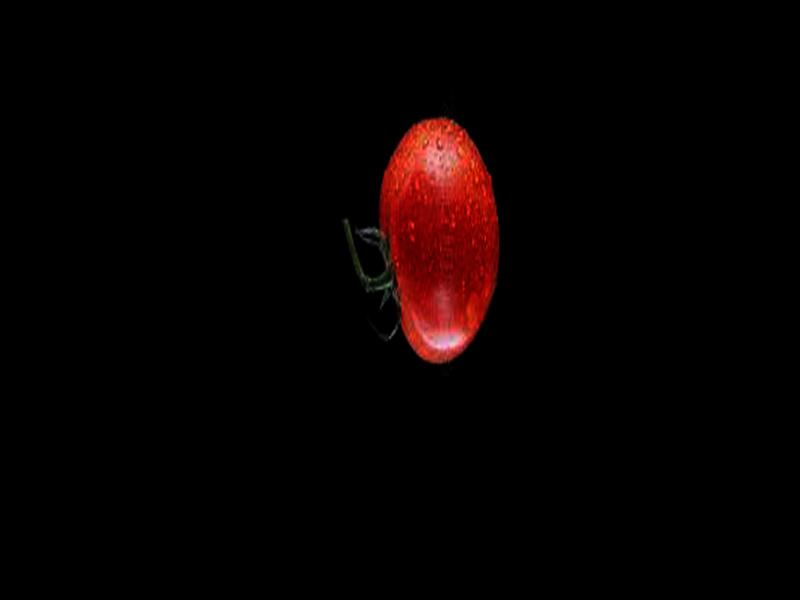Tomato: (376, 115, 501, 364)
